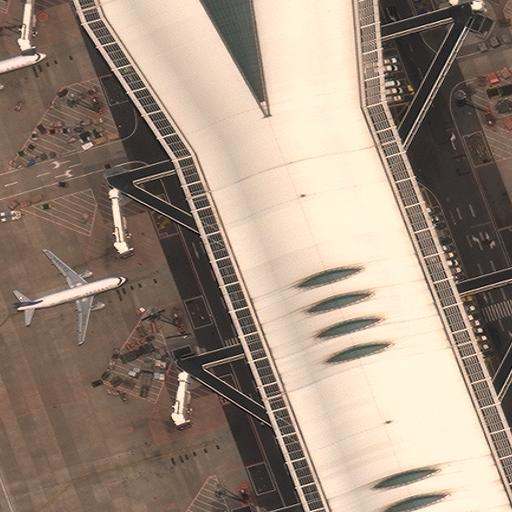Medium Civil Transport: (12, 248, 126, 342), (0, 43, 46, 105)
